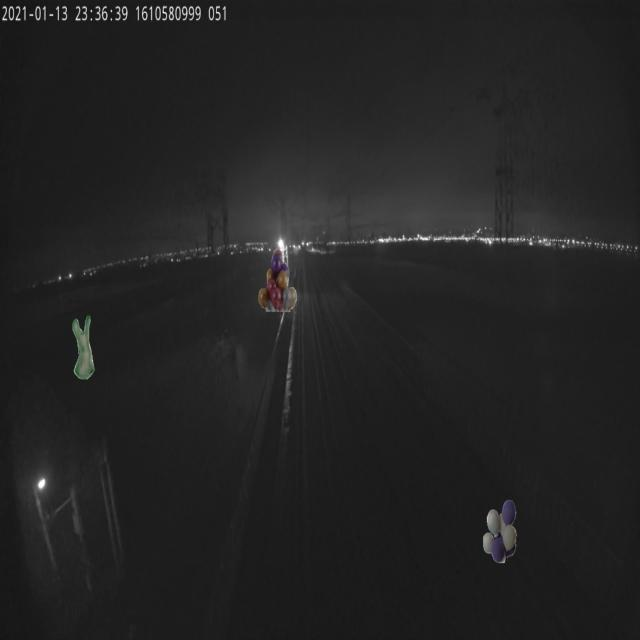balloon: (258, 248, 297, 312), (483, 499, 517, 563)
plastic bag: (72, 316, 95, 380)
